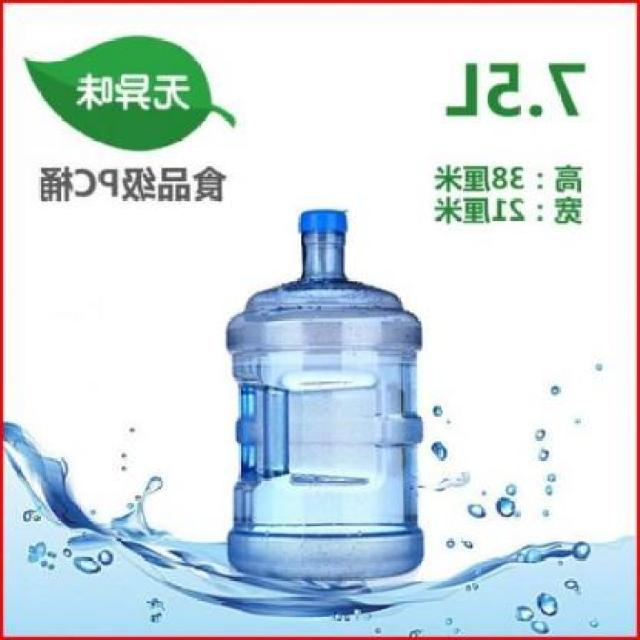coolerbottle: (222, 205, 428, 588)
